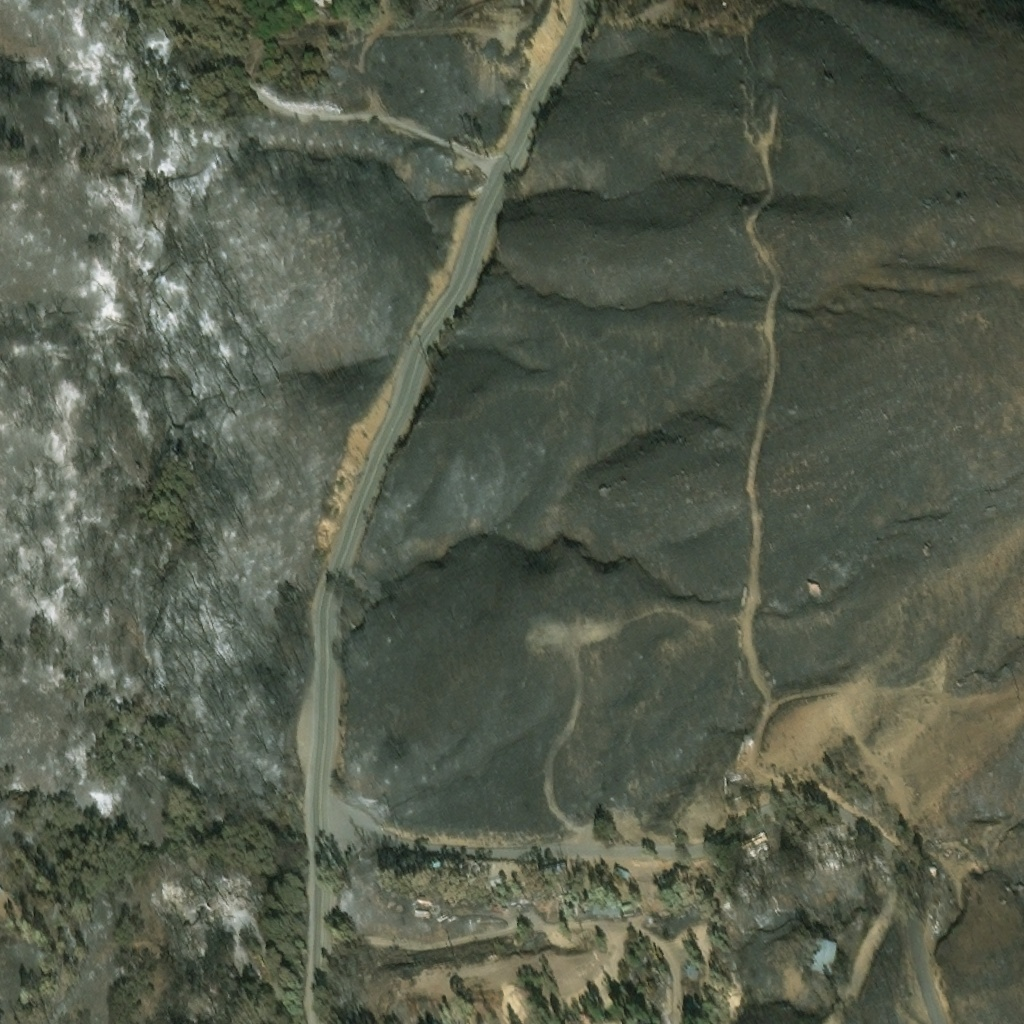1 minor-damage: (810, 940, 837, 977)
3 destroyed: (481, 4, 518, 19), (541, 866, 570, 883), (684, 982, 701, 1010), (748, 832, 770, 853), (425, 851, 444, 870), (595, 908, 621, 921), (723, 769, 747, 780), (620, 908, 635, 922), (684, 971, 701, 982), (920, 837, 933, 850), (931, 897, 942, 912), (223, 922, 237, 929), (931, 869, 937, 878), (0, 888, 4, 897)
4 un-classified: (313, 0, 336, 15), (614, 870, 630, 883), (415, 906, 436, 914), (415, 914, 430, 923)
